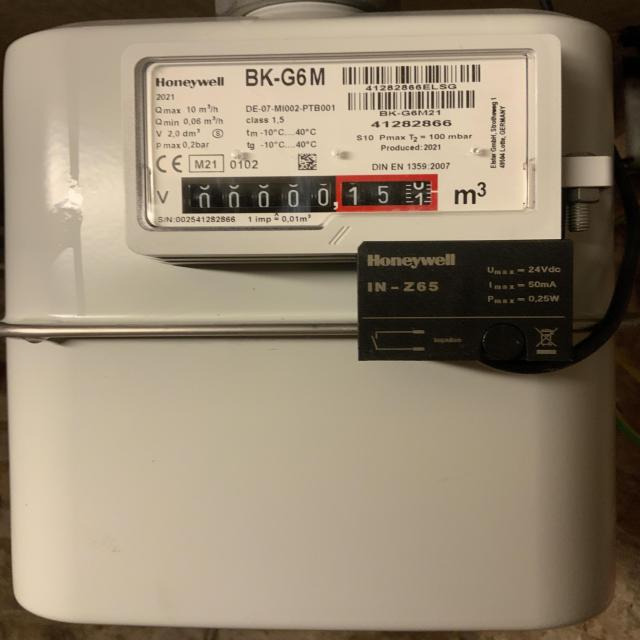gaz_meter: (144, 58, 532, 228)
indication: (182, 172, 443, 216)
